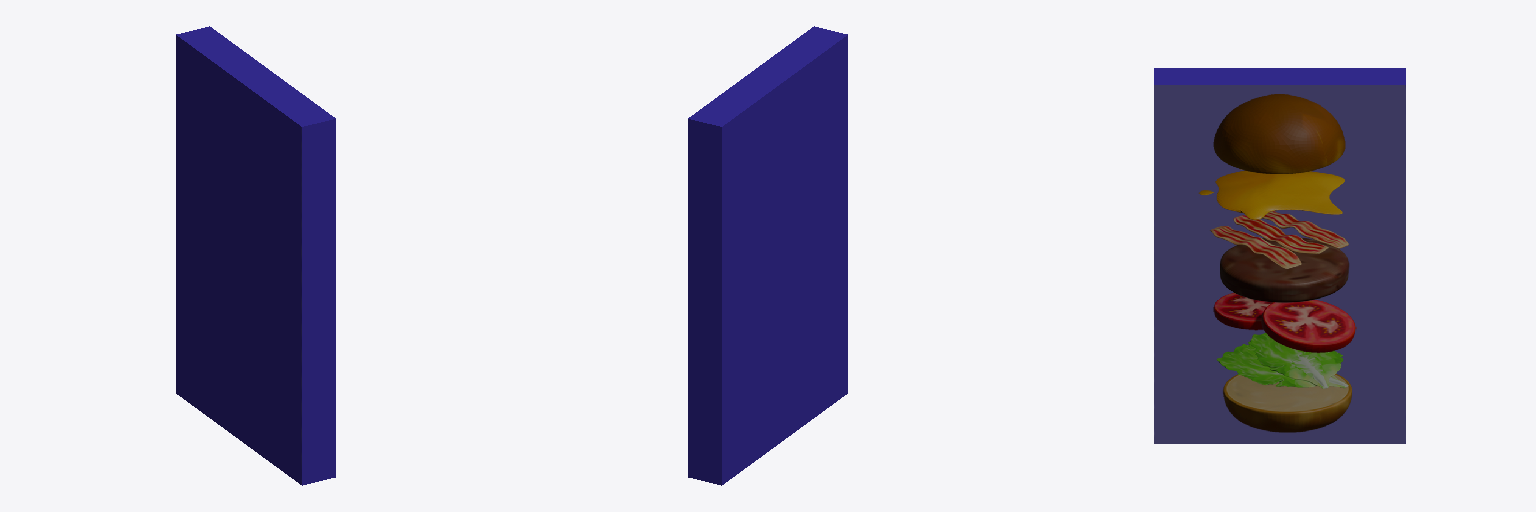
3 views of the same model, side by side, from view 1: azimuth 30°, elevation 25°; view 2: azimuth 150°, elevation 25°; view 3: azimuth 270°, elevation 25° (orthographic).
Visible parts, largest first — view 1: Cube; view 2: Cube; view 3: Cube.
Boxes of the visible parts, box(x1,y1,x2,y2) form: Cube: box(176, 26, 335, 485); Cube: box(688, 26, 847, 485); Cube: box(1154, 68, 1405, 443).
Size of the model in its own units: 0.313 by 3.14 by 2.
1 materials, 1 textured.